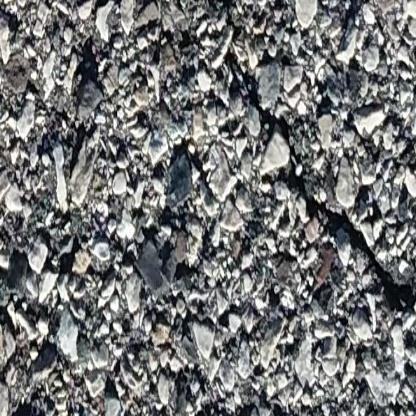Cracks: (216, 0, 416, 317), (71, 35, 106, 111), (22, 0, 157, 13)
